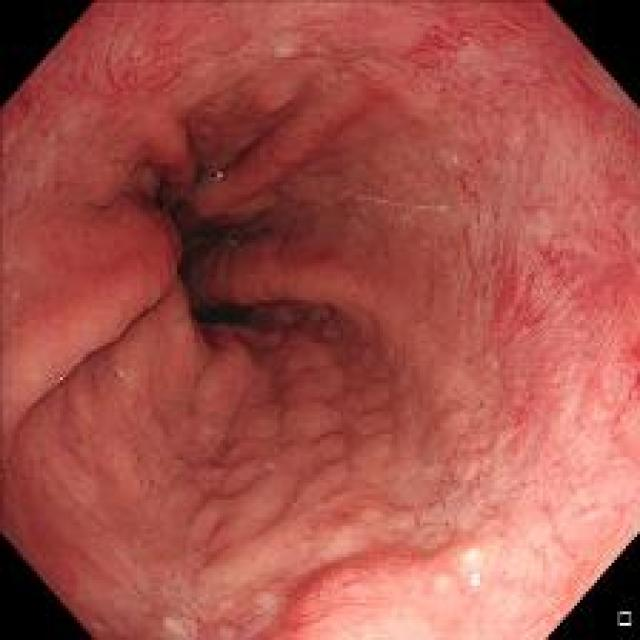contrast: (155, 179, 248, 324)
saturation: (324, 556, 520, 632)
specularity: (458, 561, 494, 596), (210, 166, 236, 191)
